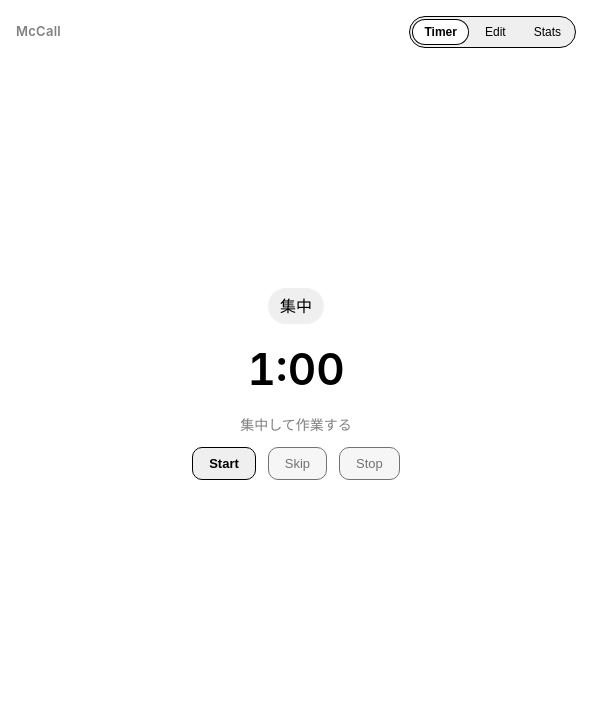
Test: App › switches views via buttons and shortcuts
Expected: the text "集中" is shown, [268,288,324,324]
Step 1. Click the button "Edit" → coordinates (495, 32), box [473,19,518,45]
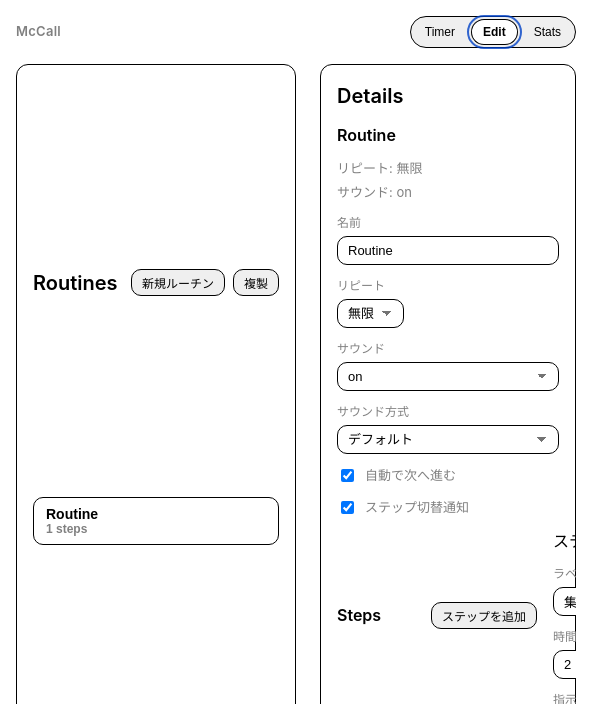
Now the heading "Routines" is shown, box [33,268,118,298]
Step 2. Type keys "{Meta>}3{/Meta}"
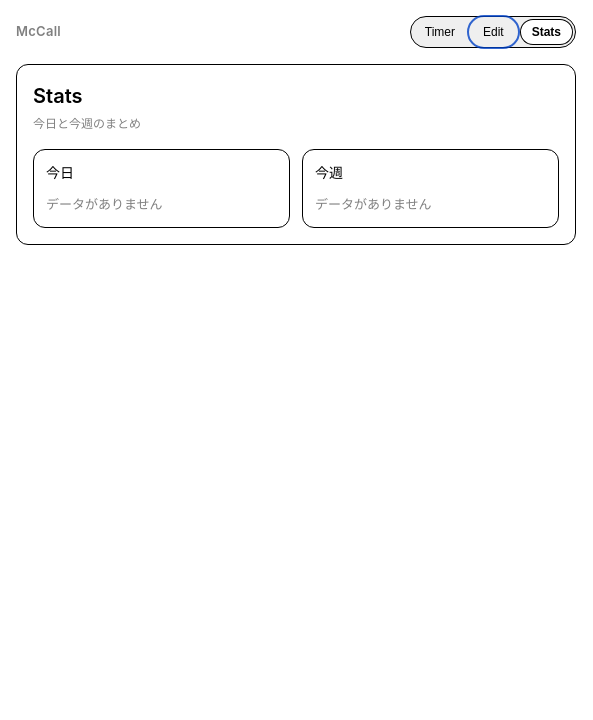
Now the heading "Stats" is shown, box [33,84,82,108]
